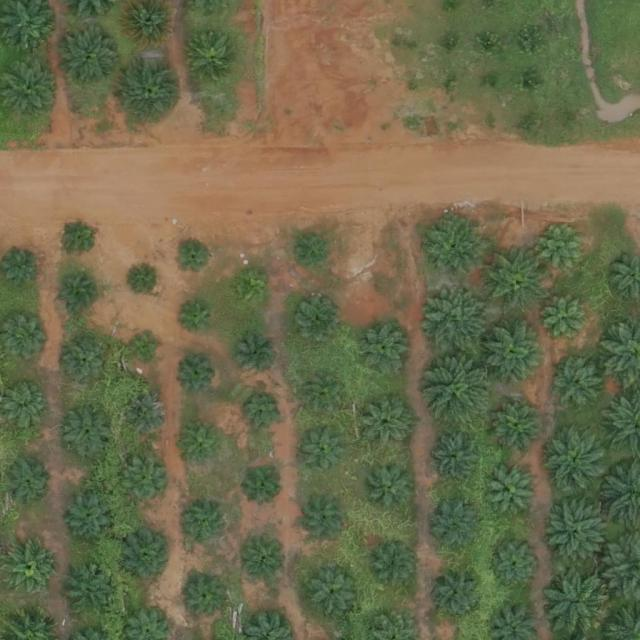Healthy: (427, 355, 498, 426), (424, 288, 494, 359), (542, 570, 612, 640), (424, 217, 487, 280), (485, 249, 548, 312), (60, 26, 122, 89), (122, 59, 184, 122), (485, 324, 548, 386), (548, 499, 610, 562), (546, 428, 608, 490), (188, 33, 243, 88), (4, 543, 59, 598), (64, 492, 119, 547), (63, 566, 118, 621), (309, 567, 364, 622), (361, 325, 408, 373), (436, 433, 483, 481), (494, 404, 541, 452), (491, 469, 538, 517), (557, 362, 604, 410), (435, 505, 482, 552)
Small: (61, 404, 116, 459), (538, 223, 593, 278), (490, 539, 545, 594), (433, 567, 488, 622), (121, 529, 176, 584), (4, 457, 51, 505), (303, 368, 350, 416), (364, 400, 411, 448), (2, 314, 49, 361), (63, 341, 110, 388), (542, 296, 589, 343), (293, 300, 340, 347), (184, 576, 231, 623), (177, 504, 224, 551), (302, 498, 349, 545), (368, 543, 415, 590), (369, 463, 416, 510), (303, 426, 350, 473), (121, 457, 168, 504), (125, 394, 172, 441), (232, 335, 279, 382), (241, 391, 288, 438), (240, 462, 287, 509), (242, 540, 289, 587), (59, 218, 99, 258), (288, 232, 328, 272), (3, 249, 42, 289), (60, 274, 99, 314), (177, 300, 216, 340), (183, 424, 222, 464), (175, 238, 214, 277), (177, 355, 216, 394), (231, 271, 270, 310), (131, 266, 162, 298), (131, 332, 162, 364)
